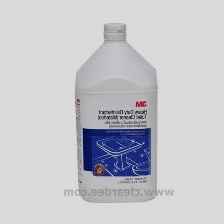cleaning_solution: (72, 20, 161, 205)
